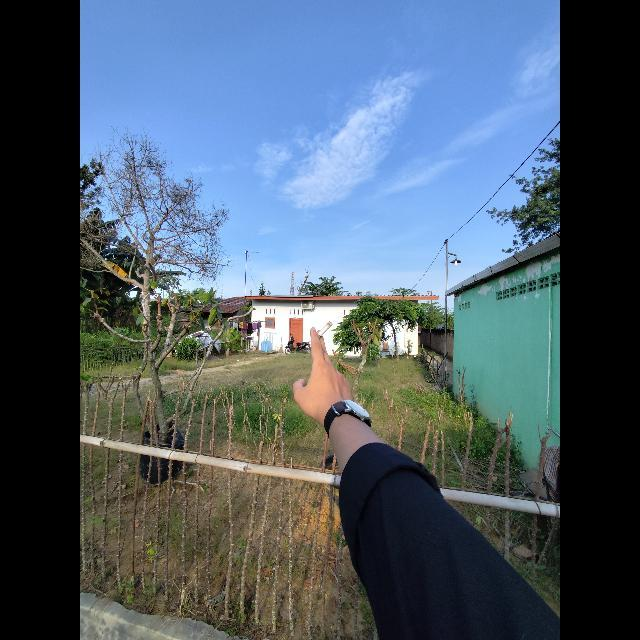rokok: (317, 319, 333, 339)
